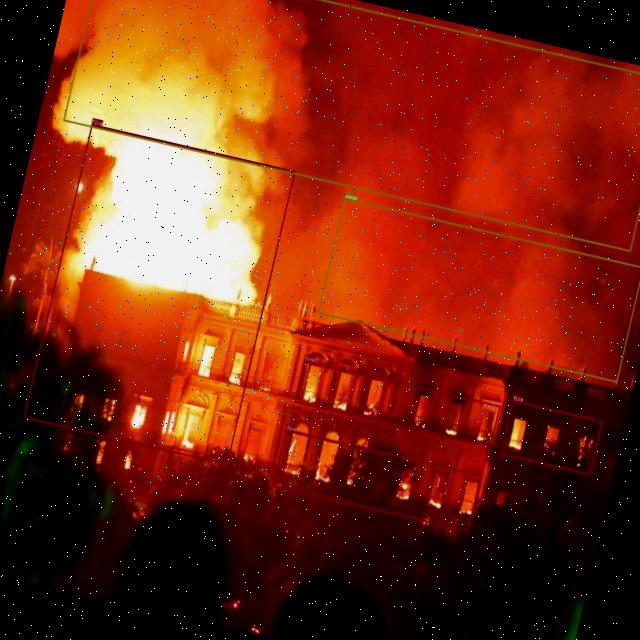fire: (22, 123, 294, 464), (272, 429, 481, 532), (294, 360, 500, 447), (499, 400, 602, 475)
smoke: (63, 0, 640, 251), (316, 197, 640, 382)
